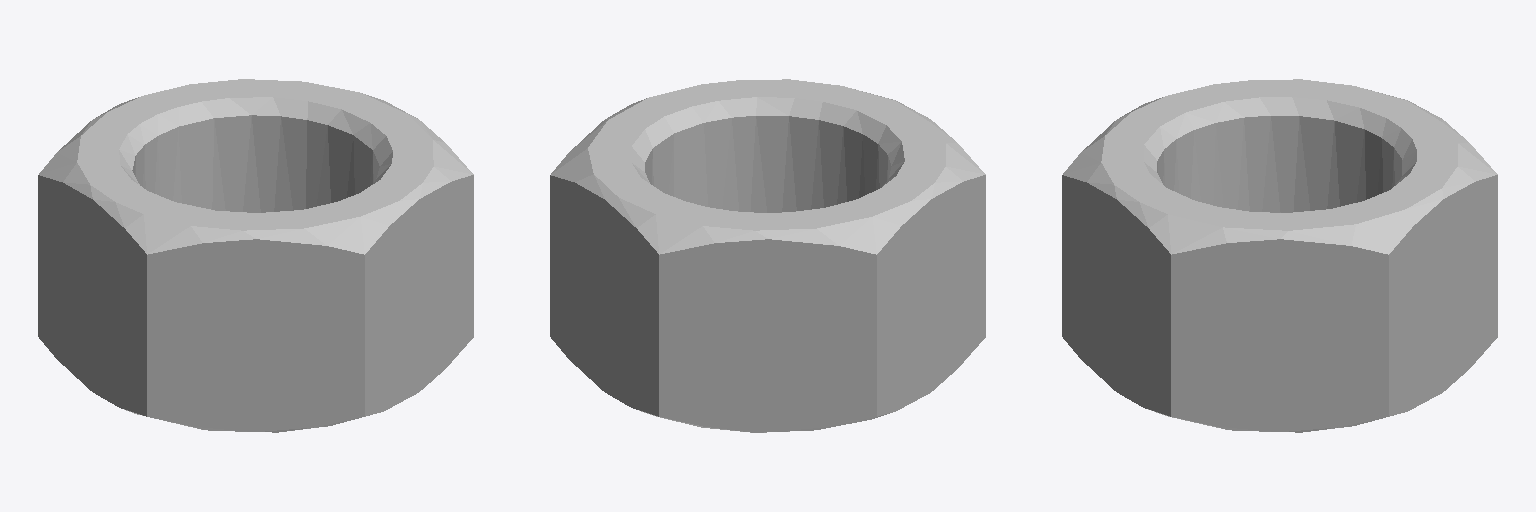
File: nut bolt.obj
The picture shows the model from 3 angles: view 1: azimuth 30°, elevation 25°; view 2: azimuth 150°, elevation 25°; view 3: azimuth 270°, elevation 25°; orthographic projection.
Parts seen in each view (by area): view 1: imagetostl_mesh; view 2: imagetostl_mesh; view 3: imagetostl_mesh.
Boxes of the visible parts, <box> form: imagetostl_mesh: <box>38,79,473,432</box>; imagetostl_mesh: <box>550,79,985,432</box>; imagetostl_mesh: <box>1062,79,1497,432</box>.
Size of the model in its own units: 22 by 13 by 25.4.